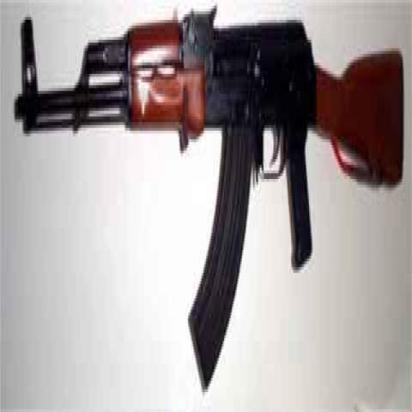Gun: (7, 7, 407, 390)
